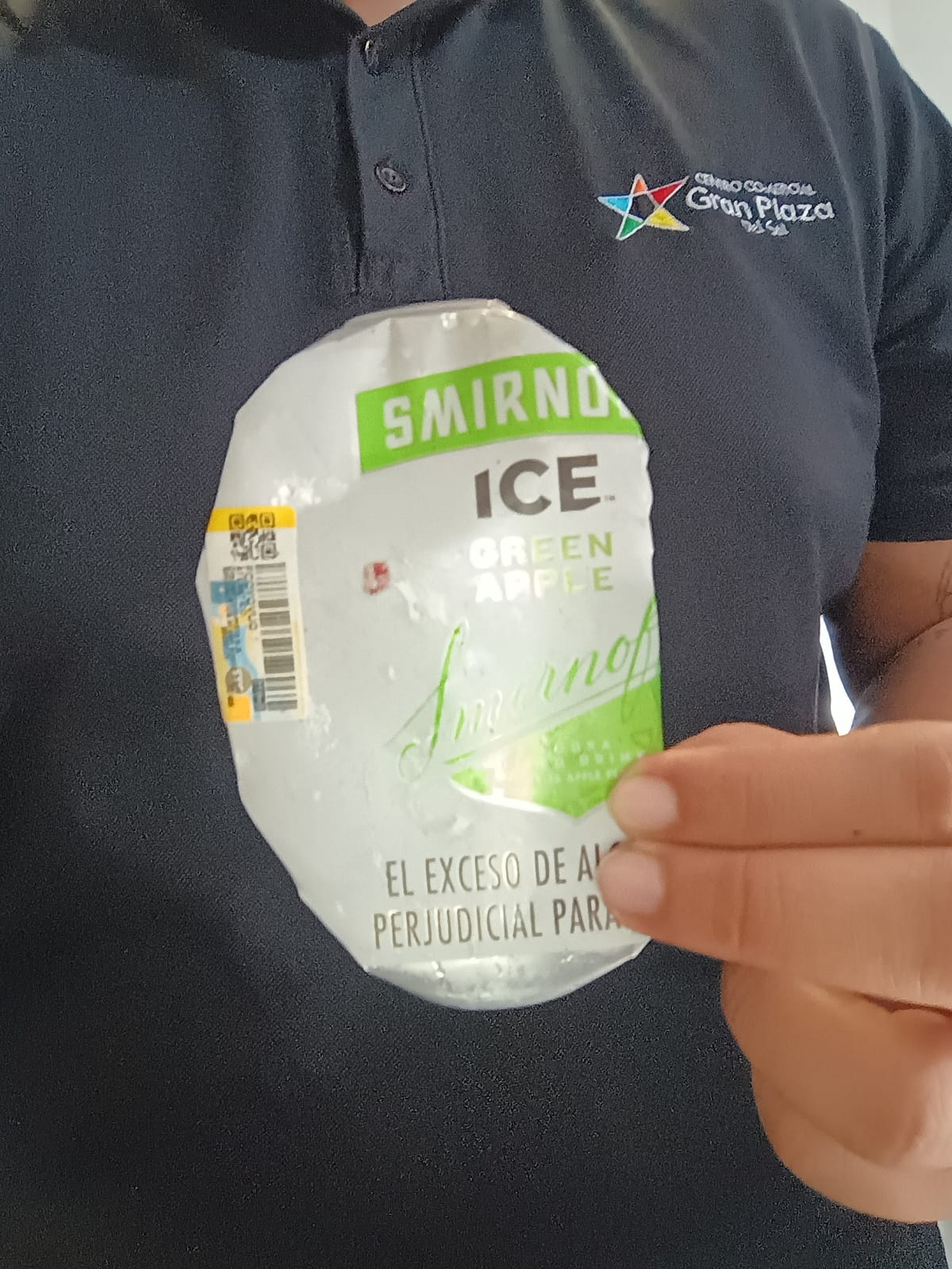Metal: (191, 301, 660, 1007)
